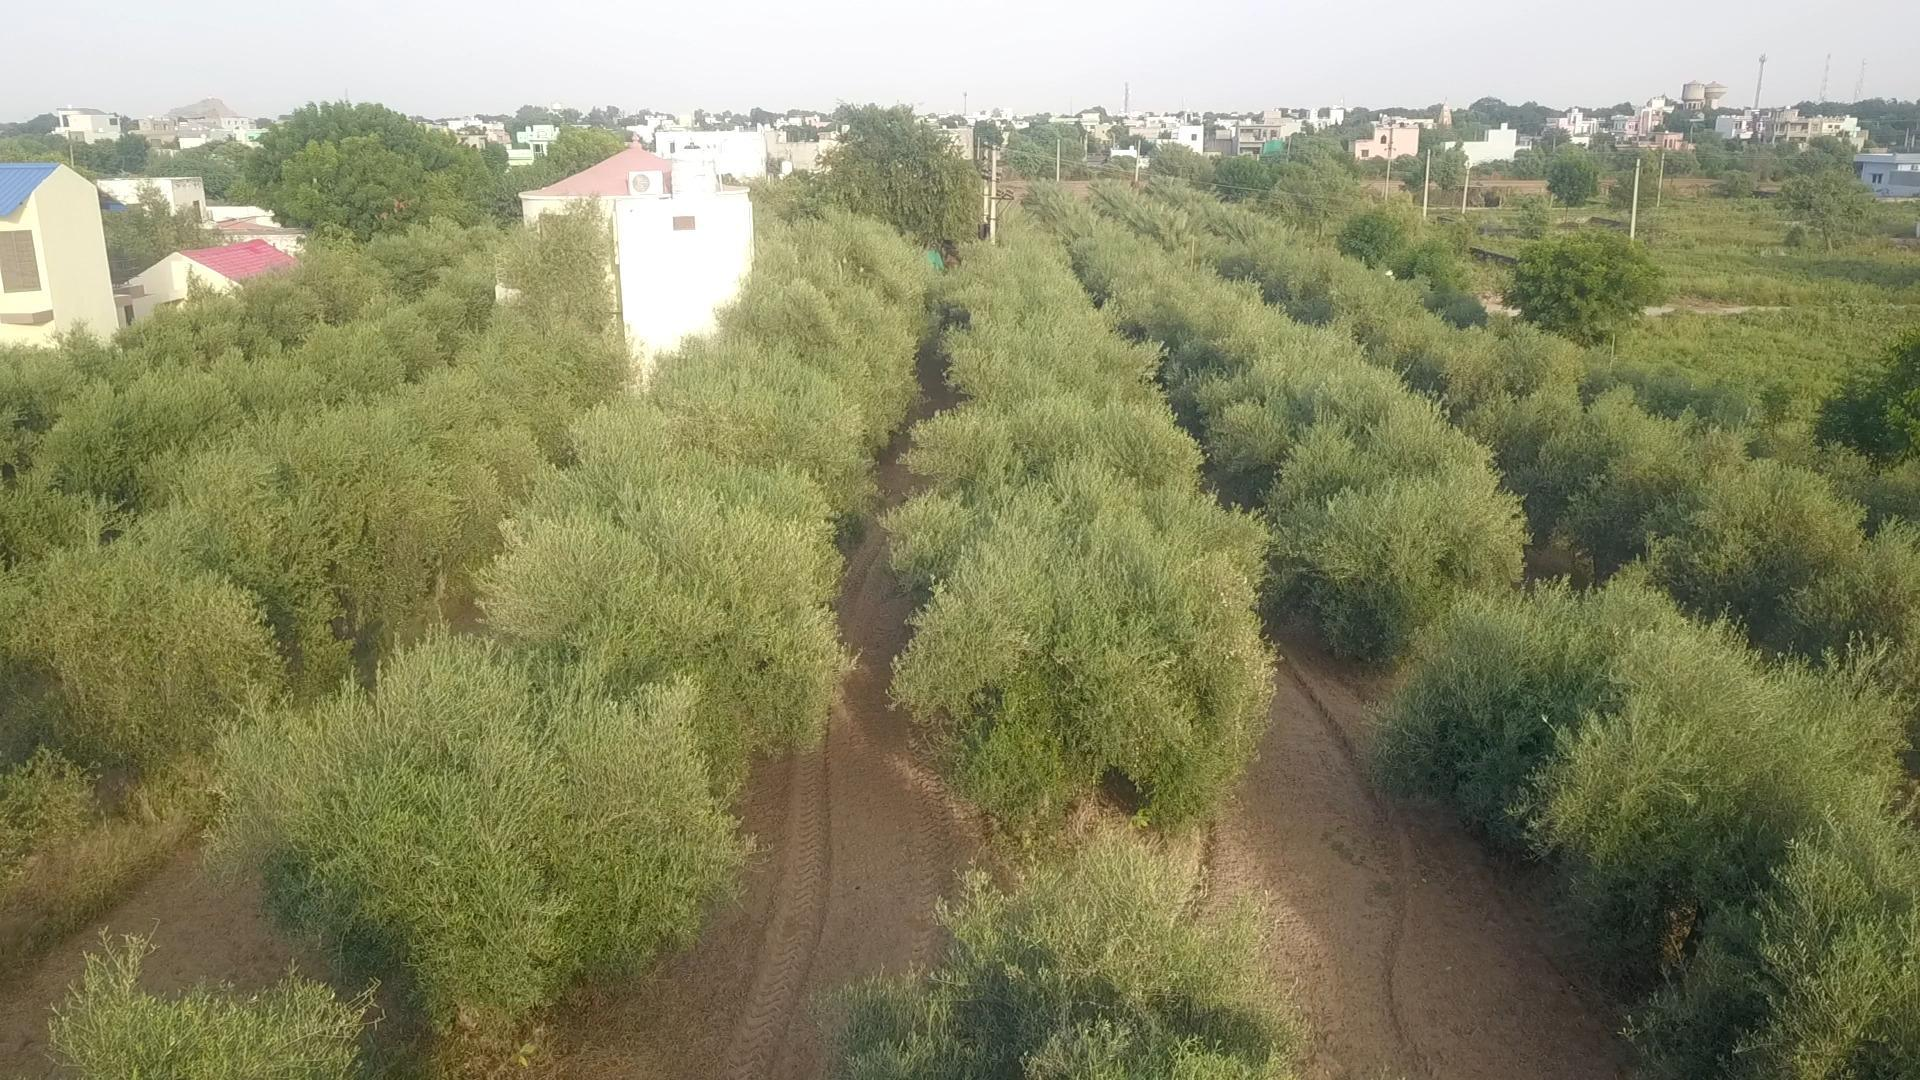canopy: (1054, 204, 1919, 973), (227, 214, 928, 1025), (1108, 189, 1919, 680), (0, 294, 626, 771), (886, 218, 1270, 833)
road: (568, 524, 978, 1079), (1204, 640, 1627, 1079), (0, 849, 293, 1079)
